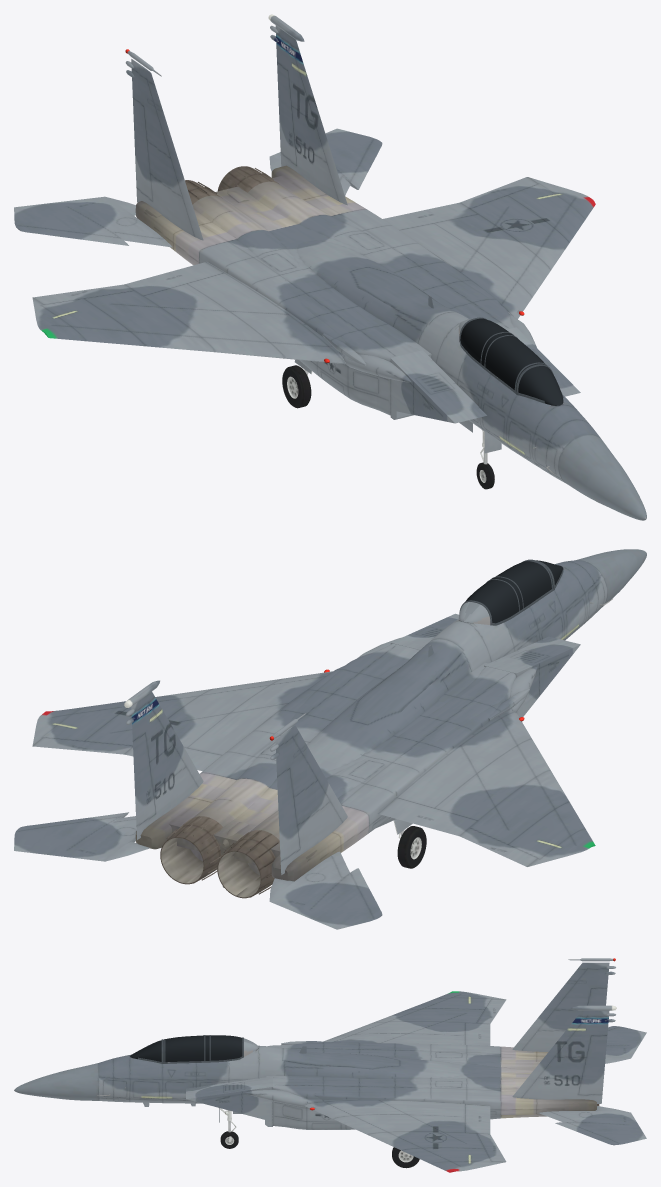
3 renders of one model, top to bottom at view 1: azimuth 30°, elevation 25°; view 2: azimuth 150°, elevation 25°; view 3: azimuth 270°, elevation 25°, orthographic. The views are drawn at different scales.
Visible parts, largest first — view 1: airframe, stab_m, nozzles, spin_r_m; view 2: airframe, stab_m, nozzles, spin_r_m; view 3: airframe, stab_m, spin_l_m, steer_nose_m.
Boxes of the visible parts, <box> form: airframe: <box>32,14,646,520</box>; stab_m: <box>14,128,382,247</box>; nozzles: <box>185,166,278,204</box>; spin_r_m: <box>282,365,311,408</box>; airframe: <box>32,549,646,887</box>; stab_m: <box>14,812,382,929</box>; nozzles: <box>160,816,279,898</box>; spin_r_m: <box>397,826,426,868</box>; airframe: <box>14,958,616,1172</box>; stab_m: <box>538,1026,646,1145</box>; spin_l_m: <box>392,1147,419,1168</box>; steer_nose_m: <box>220,1121,238,1148</box>.
Bounding box in the file's own units: 13.05 × 5.63 × 19.43.
4 materials, 1 textured.
